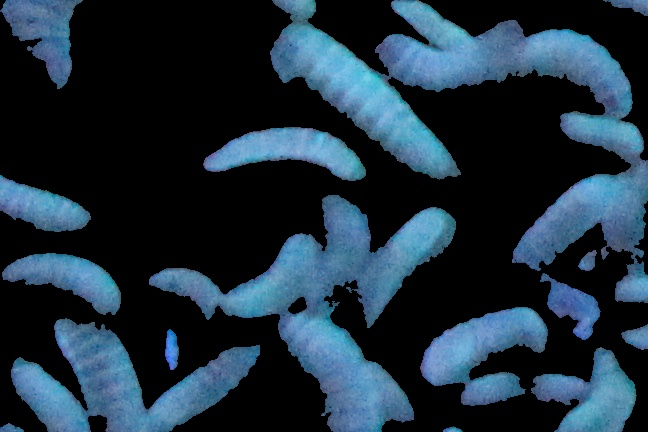larvae: (263, 13, 463, 193), (190, 115, 377, 187), (501, 172, 611, 293), (424, 294, 554, 390), (365, 200, 455, 333), (278, 316, 377, 432), (140, 248, 244, 348), (524, 21, 634, 115), (55, 318, 146, 427), (153, 343, 265, 422), (227, 227, 325, 317), (4, 247, 129, 312), (6, 352, 88, 432), (1, 173, 103, 237), (380, 36, 475, 101), (576, 344, 636, 432), (553, 107, 643, 160), (393, 1, 476, 41)
